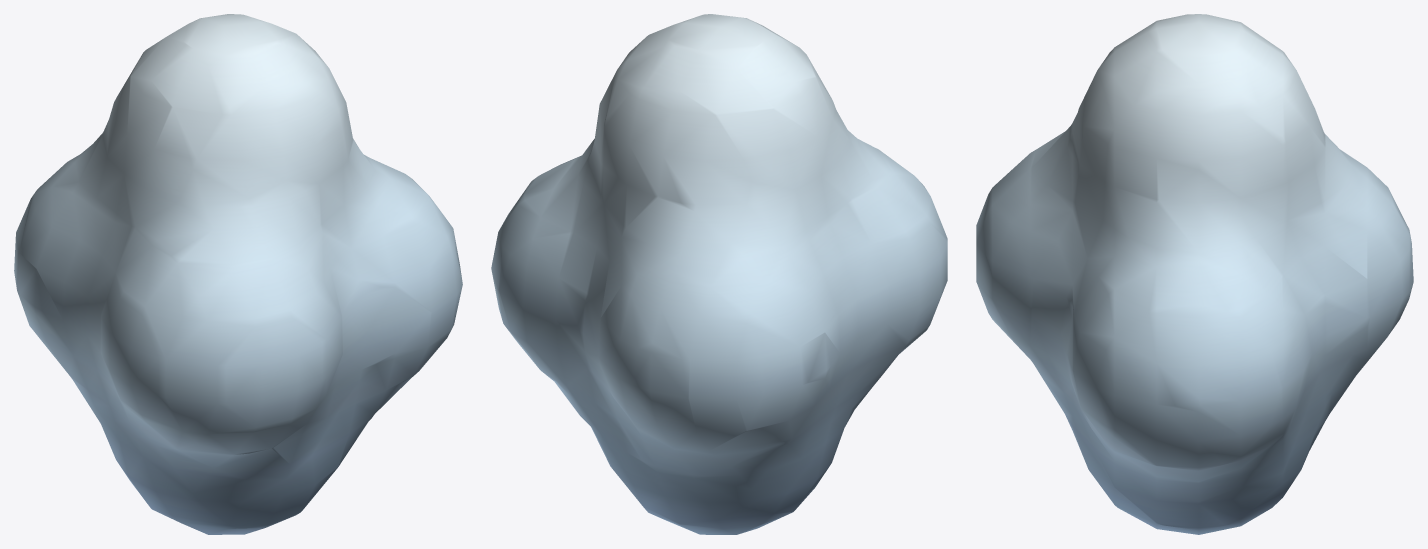
The model's file is Particlass.fbx.
3 views of the same model, side by side, from view 1: azimuth 30°, elevation 25°; view 2: azimuth 150°, elevation 25°; view 3: azimuth 270°, elevation 25° (orthographic).
Visible parts, largest first — view 1: Mball.005; view 2: Mball.005; view 3: Mball.005.
Part boxes in pixels (box(x1,y1,x2,y2)): Mball.005: box(14, 14, 462, 534); Mball.005: box(491, 14, 947, 534); Mball.005: box(976, 14, 1413, 534).
Size of the model in its own units: 412 by 524 by 416.
